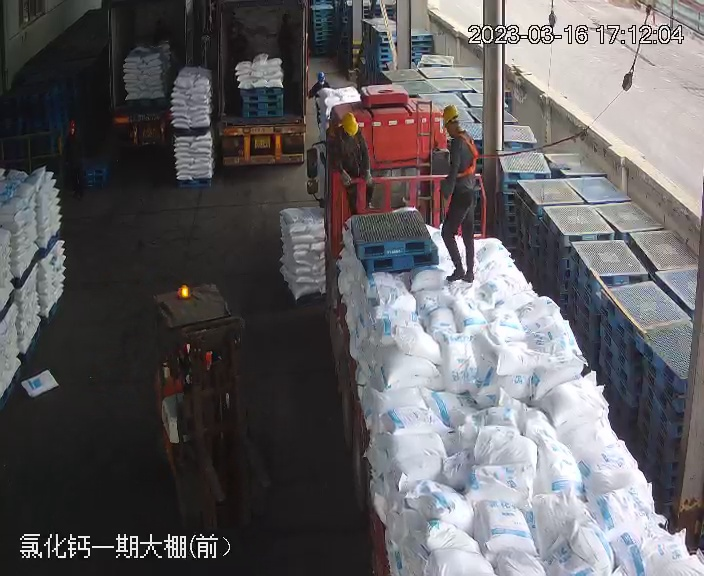belt: (450, 131, 485, 179)
head: (438, 103, 480, 162), (325, 112, 366, 152)
helmet: (340, 112, 359, 137), (441, 104, 460, 126)
people: (432, 106, 483, 285)
truck: (303, 87, 685, 576), (201, 2, 311, 176), (109, 4, 181, 154)
